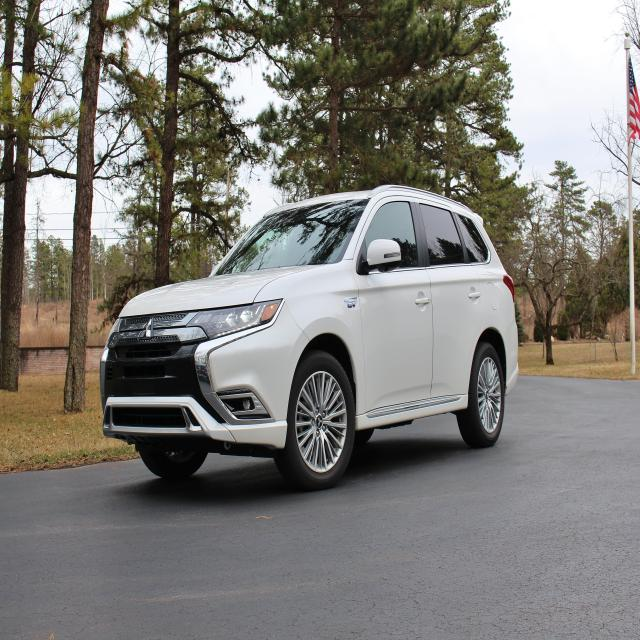light_vehicle: (100, 182, 520, 489)
